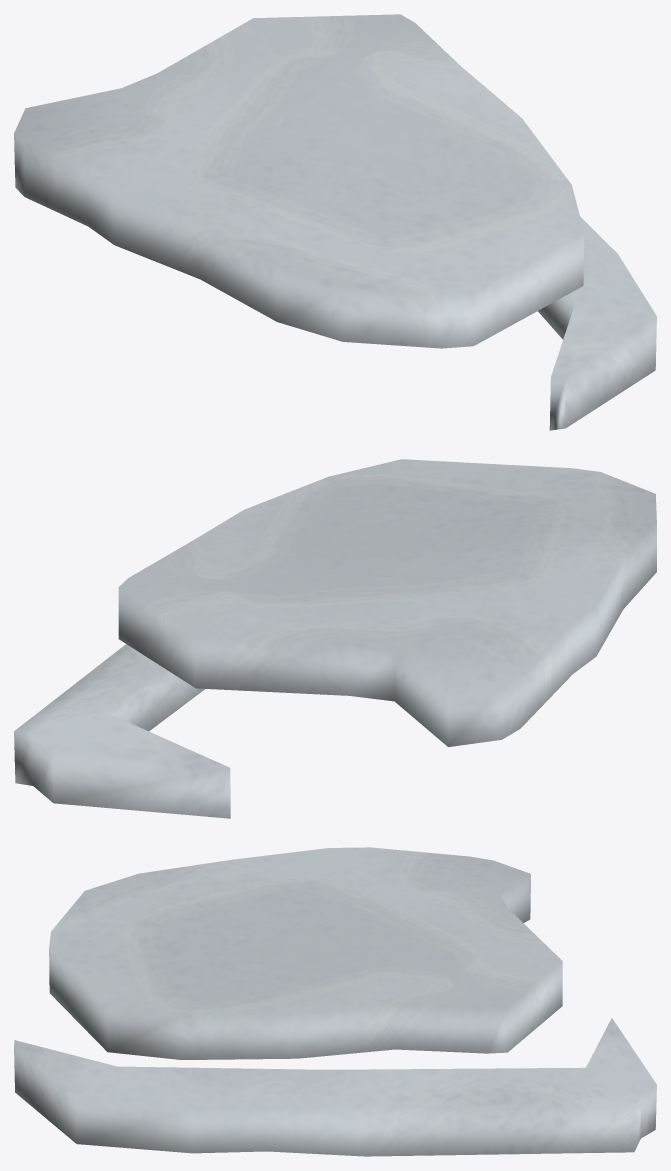
File: Rock_6_Snow.fbx
3 views of the same model, one above another, from view 1: azimuth 30°, elevation 25°; view 2: azimuth 150°, elevation 25°; view 3: azimuth 270°, elevation 25° (orthographic). The views are drawn at different scales.
Parts seen in each view (by area): view 1: Rock_6_Snow; view 2: Rock_6_Snow; view 3: Rock_6_Snow.
Boxes of the visible parts, <box> form: Rock_6_Snow: <box>14,14,656,430</box>; Rock_6_Snow: <box>14,459,656,818</box>; Rock_6_Snow: <box>14,847,656,1156</box>.
Size of the model in its own units: 230 by 82.54 by 348.
